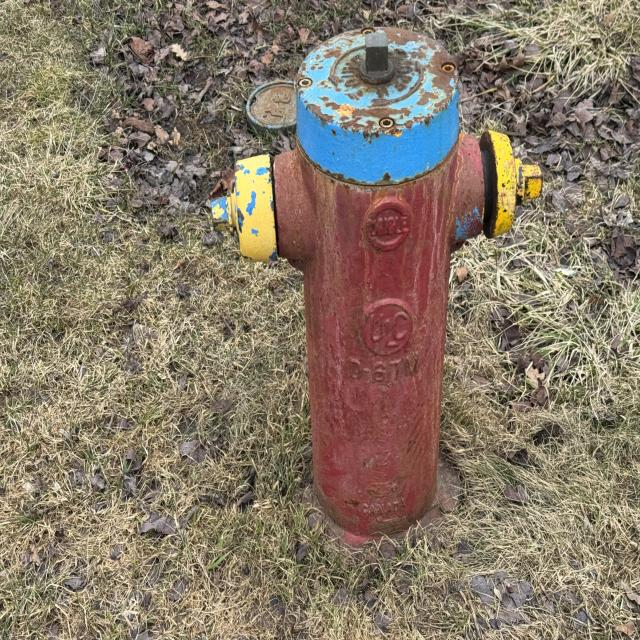Fire hydrant: (208, 24, 543, 563)
